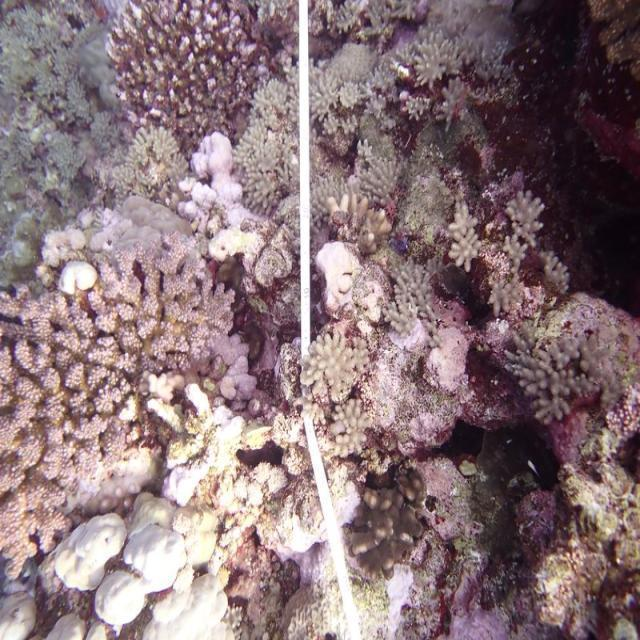Bleached Coral: (374, 0, 521, 141), (32, 515, 192, 640), (169, 114, 277, 266), (33, 217, 138, 313), (314, 225, 377, 334)
Healthy Coral: (0, 317, 172, 446), (104, 0, 251, 110)
